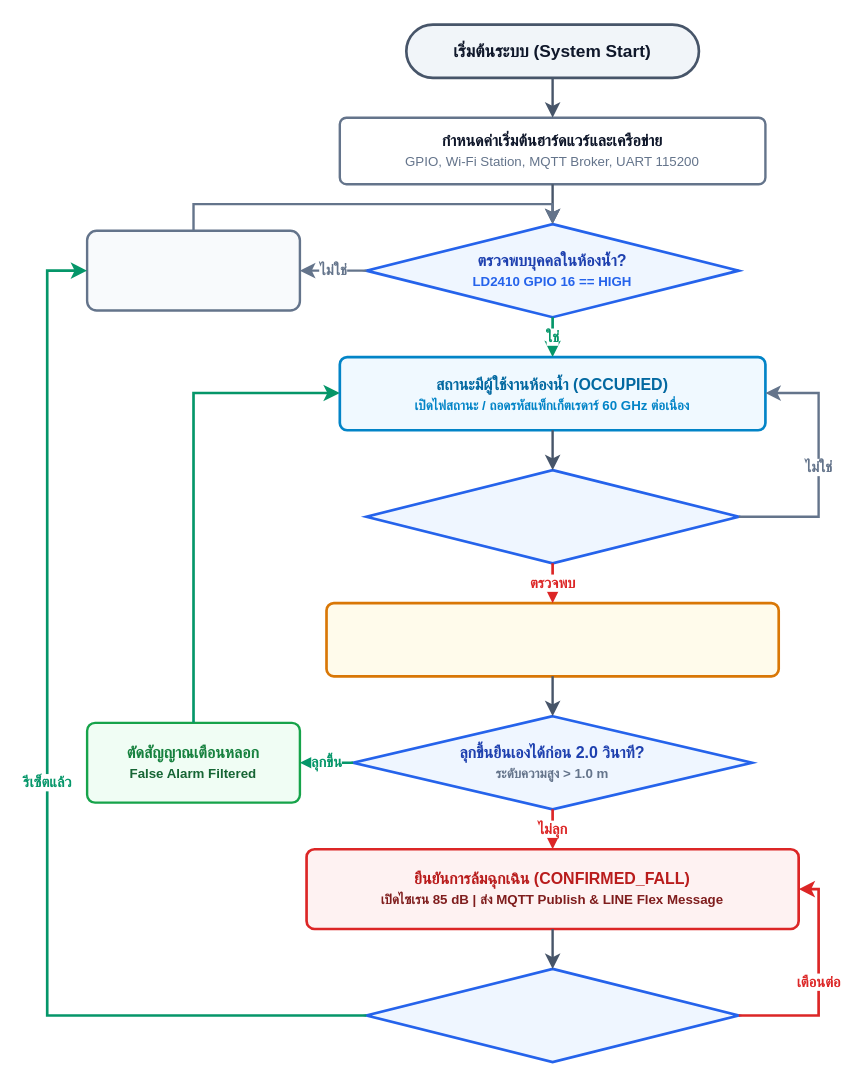
The diagram is 863 pixels wide and 1085 high, and some of its shapes have lost their labels. The centre of each missing label's shape, as x and y in pixels:
ปลดสัญญาณเตือนภัย (Reset)? ปุ่มกด / แดชบอร์ด / ลุกขึ้นยืน 2.5s: the point at 551,1015
สงสัยว่าหกล้ม (SUSPECTED_FALL) เริ่มนับเวลาหน่วงตรวจสอบ: T_delay = 2.0 วินาที: the point at 552,639
สถานะห้องว่าง (IDLE): the point at 192,270
เรดาร์ 60 GHz ตรวจพบการล้ม? Frame Type 0x0E02: the point at 551,516
